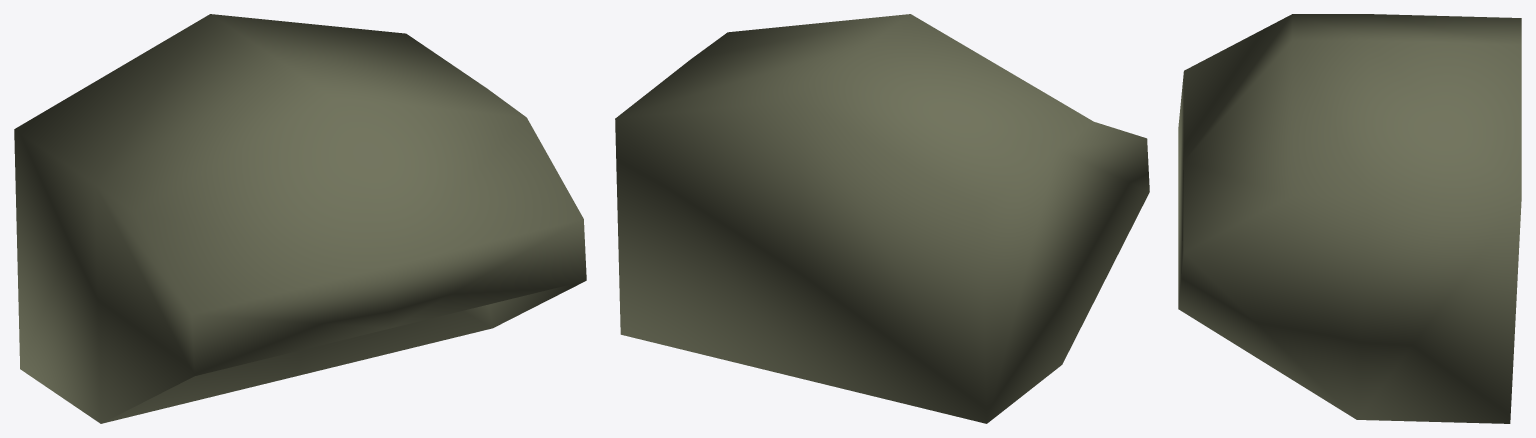
Rendered from WallLight1_01.fbx.
The picture shows the model from 3 angles, left to right: view 1: azimuth 30°, elevation 25°; view 2: azimuth 150°, elevation 25°; view 3: azimuth 270°, elevation 25°; orthographic projection. The views are drawn at different scales.
Visible parts, largest first — view 1: Cylinder.013; view 2: Cylinder.013; view 3: Cylinder.013.
Boxes of the visible parts, x1,y1,x2,y2 form: Cylinder.013: [14, 14, 586, 423]; Cylinder.013: [615, 14, 1149, 423]; Cylinder.013: [1178, 14, 1521, 423].
Bounding box in the file's own units: 61.07 × 45.74 × 48.69.
